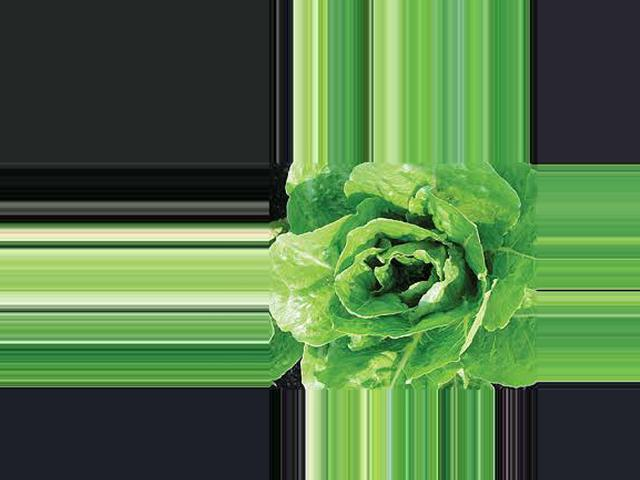lettuce: (327, 321, 492, 430)
